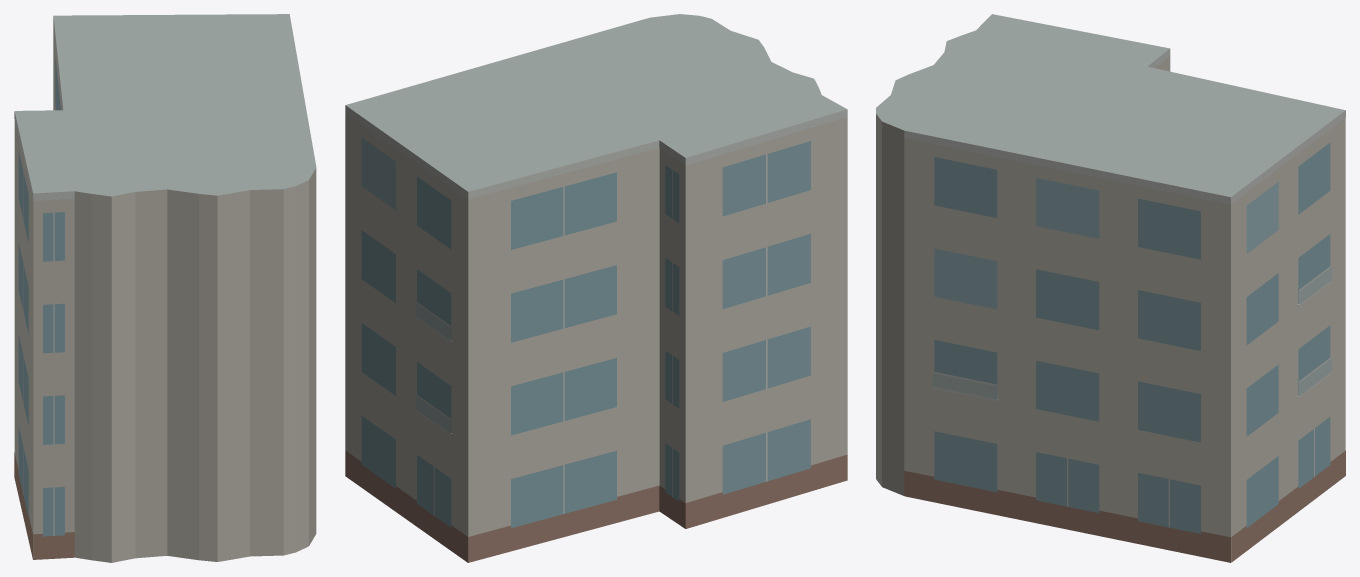
The model's file is survey-upis-32955708.glb.
The picture shows the model from 3 angles, left to right: view 1: azimuth 30°, elevation 25°; view 2: azimuth 150°, elevation 25°; view 3: azimuth 270°, elevation 25°; orthographic projection.
Parts seen in each view (by area): view 1: survey-upis-32955708.tmp; view 2: survey-upis-32955708.tmp; view 3: survey-upis-32955708.tmp.
Part boxes in pixels (x1,y1,x2,y2): survey-upis-32955708.tmp: [14, 14, 316, 562]; survey-upis-32955708.tmp: [345, 14, 847, 562]; survey-upis-32955708.tmp: [876, 14, 1345, 562].
Bounding box in the file's own units: 12.91 × 12 × 13.98.
